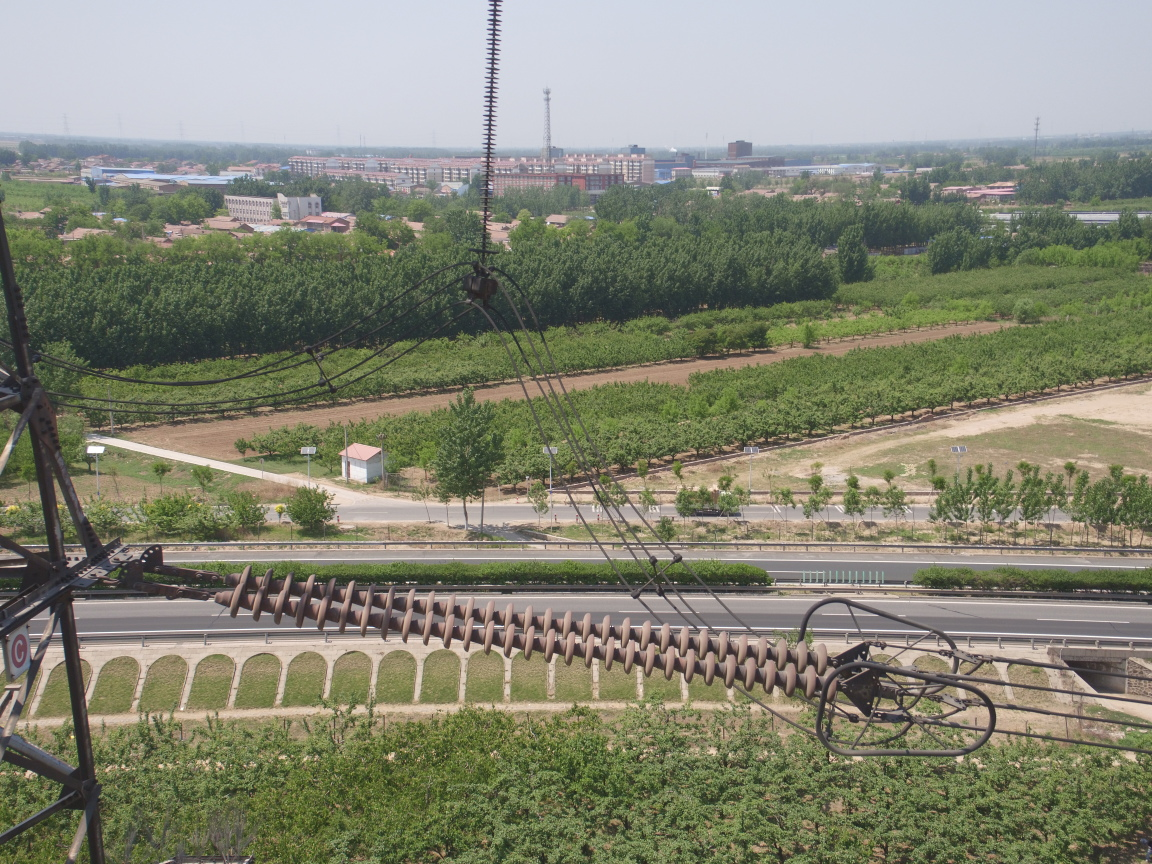insulator: (177, 558, 858, 701)
